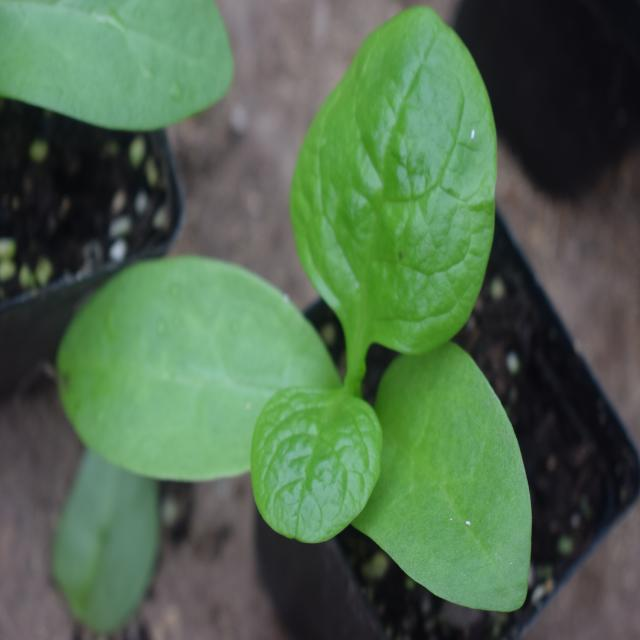Ceylon spinach: (81, 24, 546, 600)
